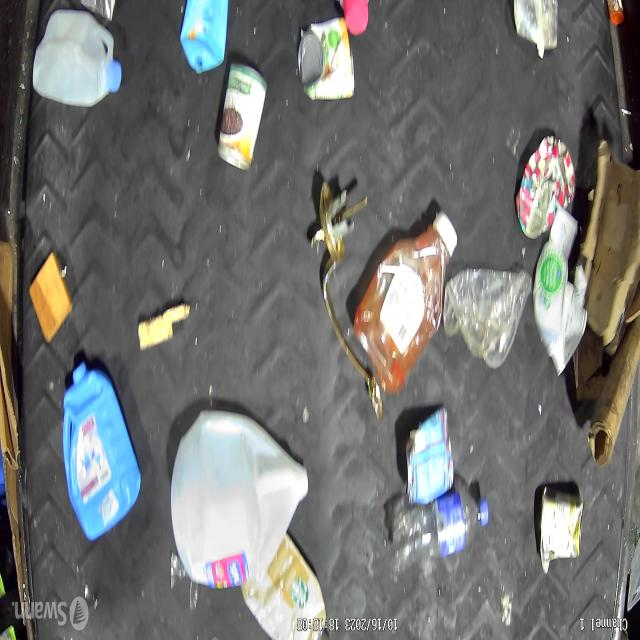can: (217, 61, 268, 173), (404, 403, 456, 508), (298, 15, 354, 103), (538, 486, 584, 576)
milk_jug: (31, 8, 123, 110)
non_white_jug: (169, 409, 309, 587), (351, 208, 458, 395), (61, 359, 140, 541), (241, 530, 329, 640), (180, 0, 230, 77)
plastic_bottle: (392, 486, 488, 574)
